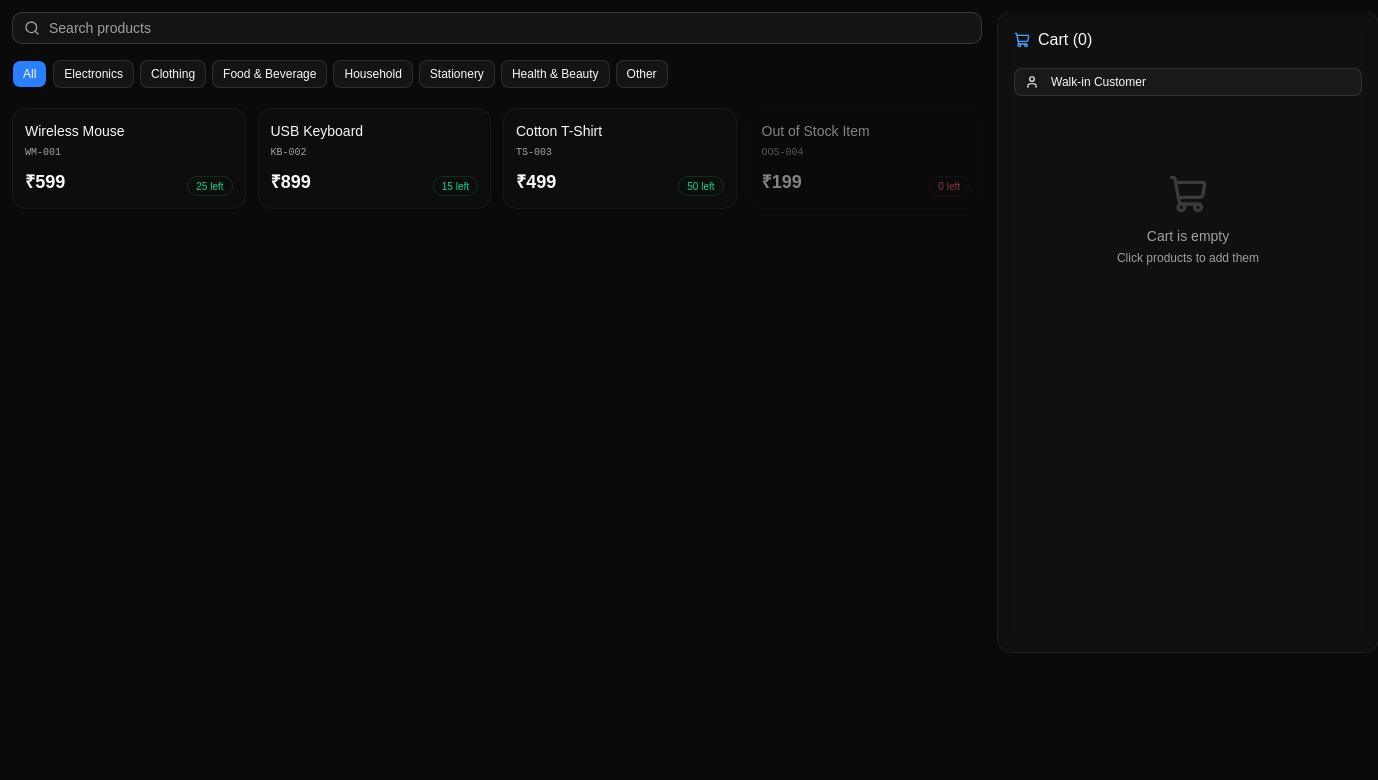
Test case: POS Page — Cart Operations › clears cart when Clear button is clicked
Expected: the text "Wireless Mouse" is shown, x1=25 y1=123 x2=125 y2=139
Note: Add product
What coordinates should you click on to do the following:
click the button "Wireless Mouse WM-001 ₹599 25 left"
I would click on:
 (129, 158)
Its box is x1=12 y1=108 x2=246 y2=209.
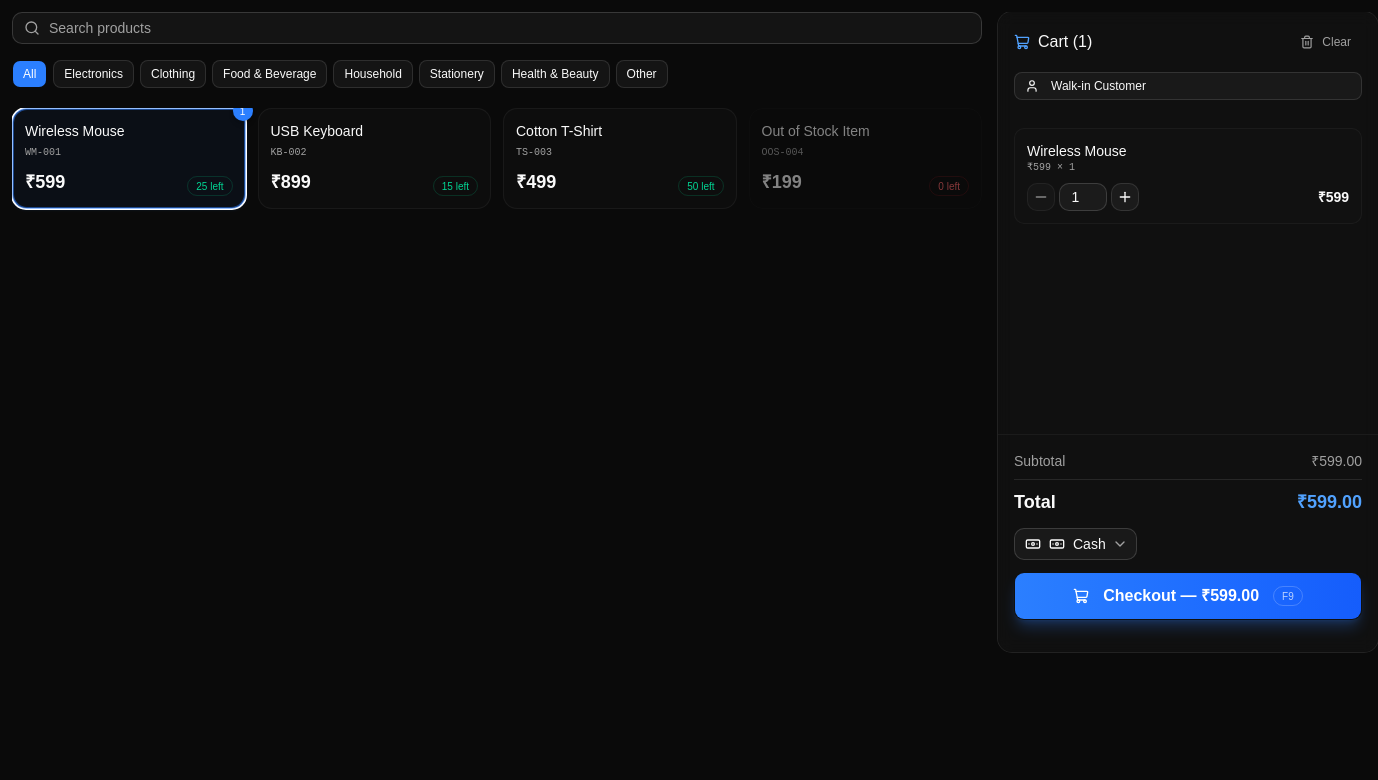
Expected: the text "Cart (1)" is shown, x1=1014 y1=30 x2=1092 y2=54
Note: Click clear
What coordinates should you click on to do the following:
click the button "Clear"
I would click on:
 (1326, 42)
Its box is x1=1289 y1=28 x2=1362 y2=56.
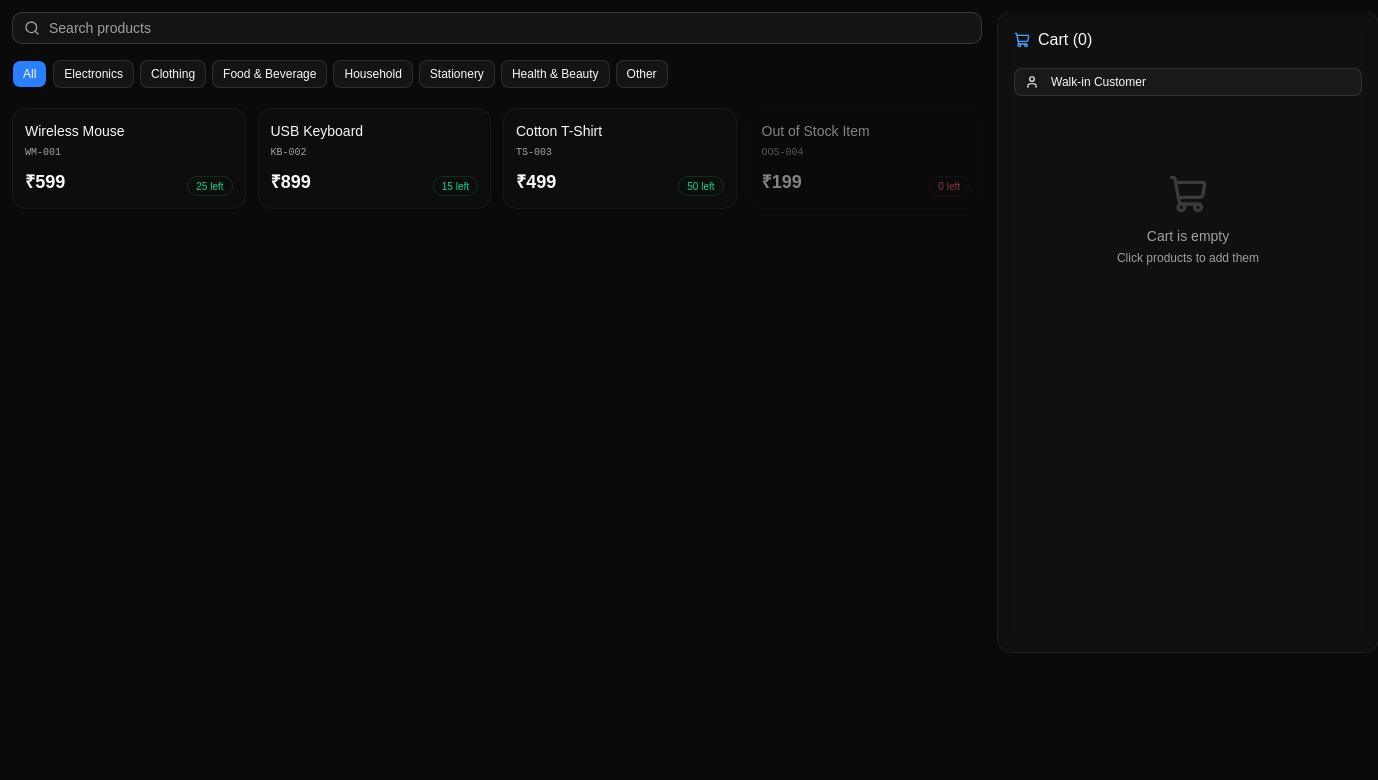
Expected: the text "Cart is empty" is shown, x1=1147 y1=226 x2=1229 y2=246
